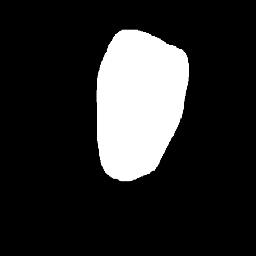mass: (104, 49, 179, 184)
